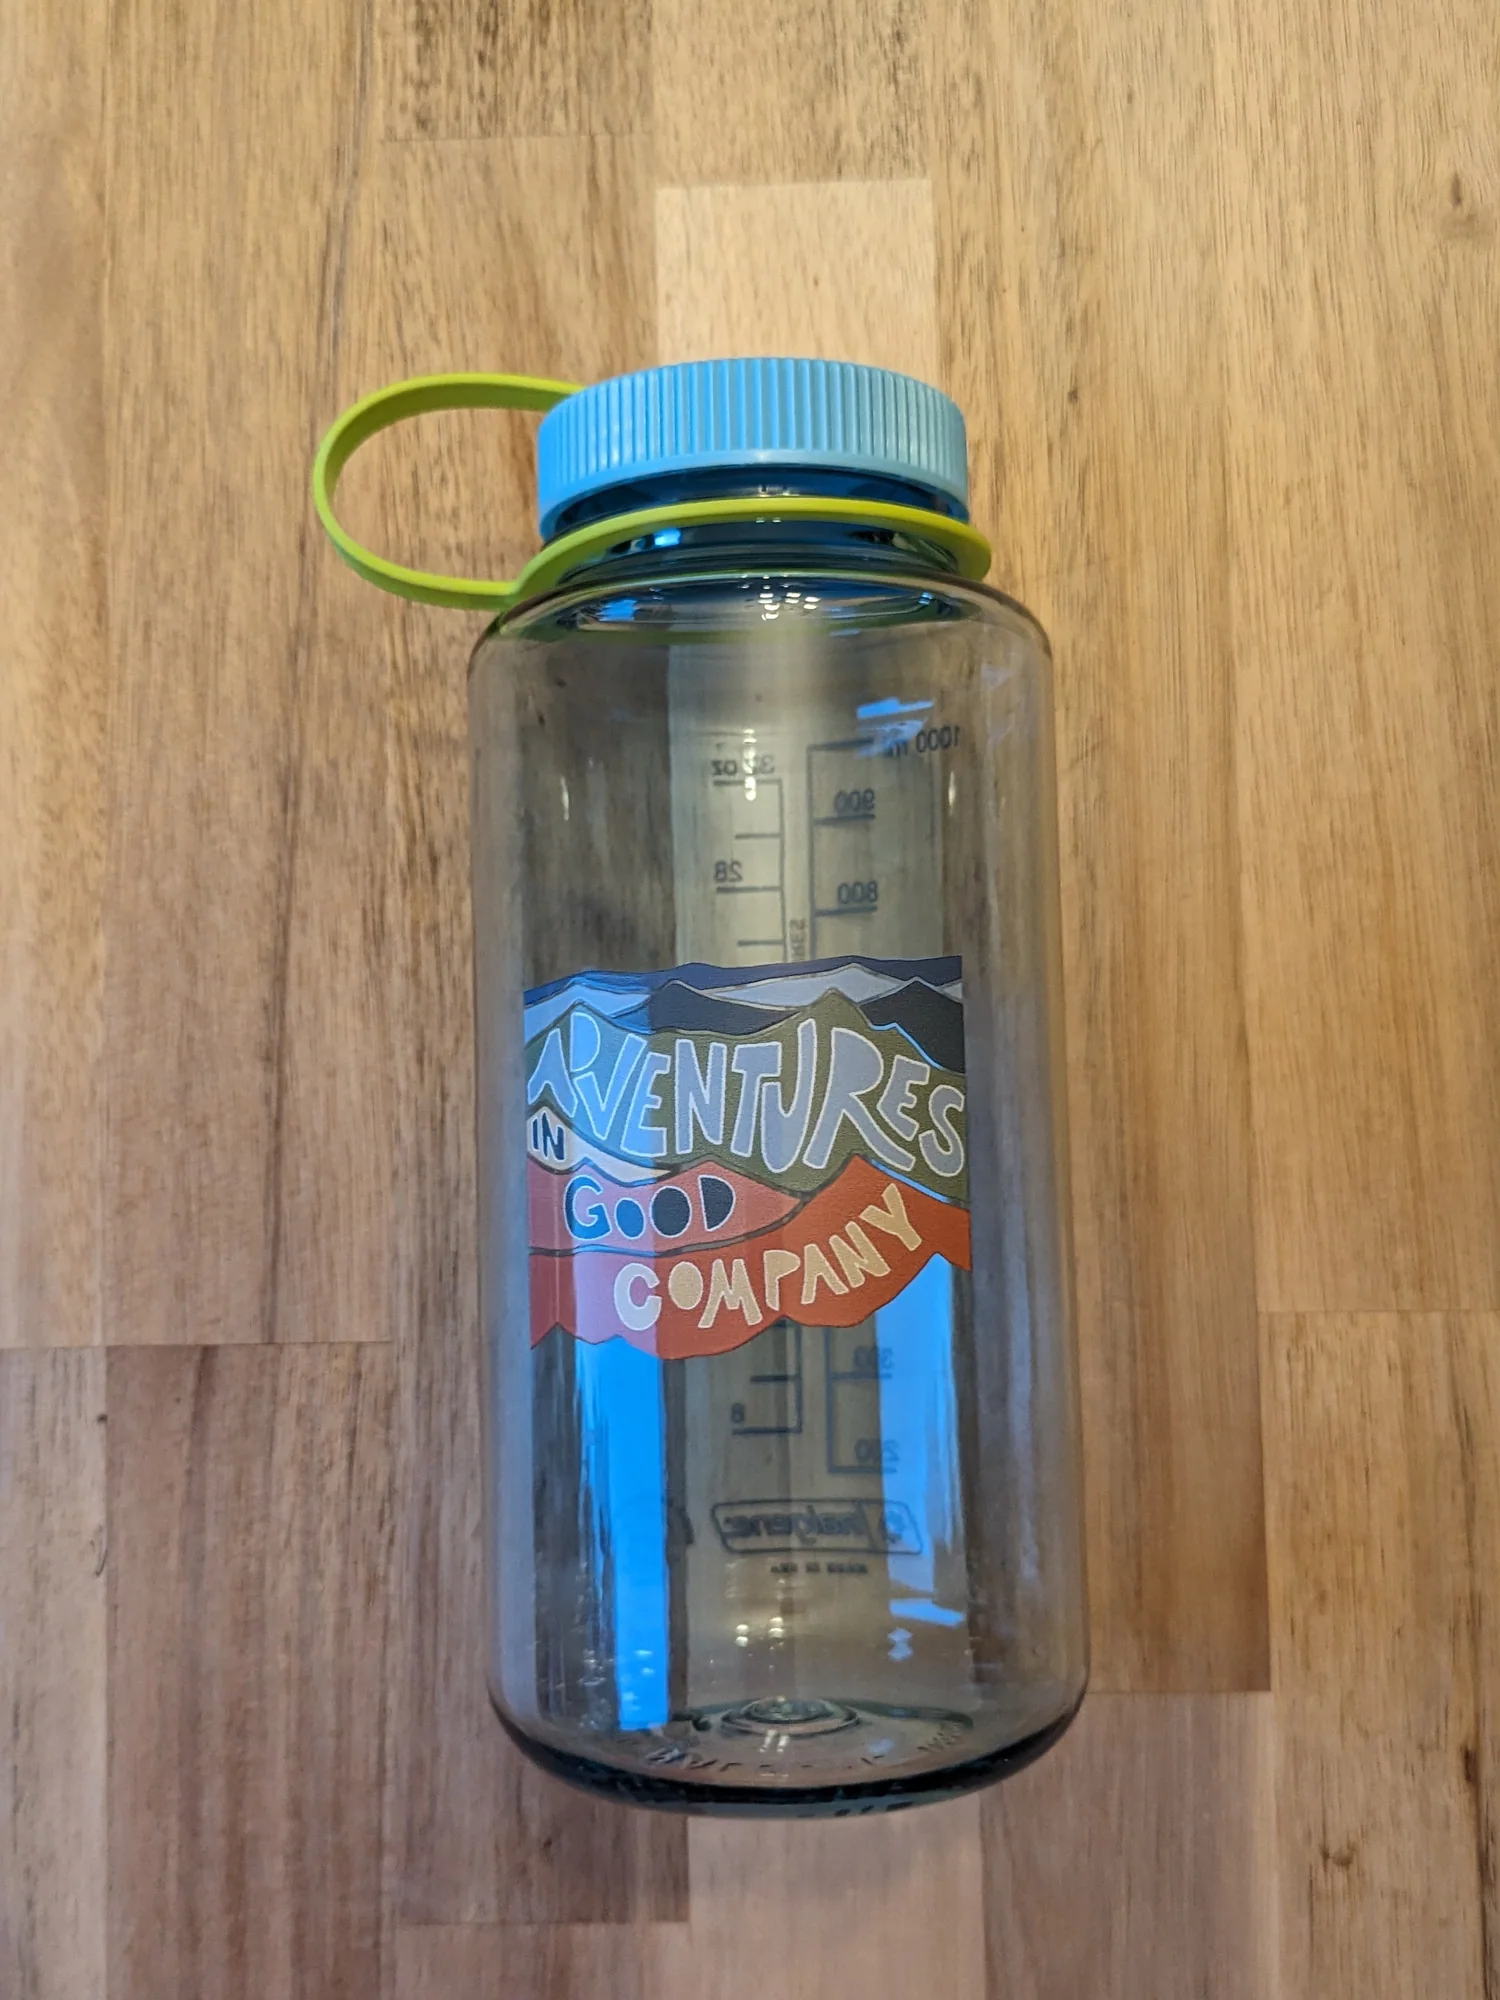bottle: (313, 354, 1098, 1819)
